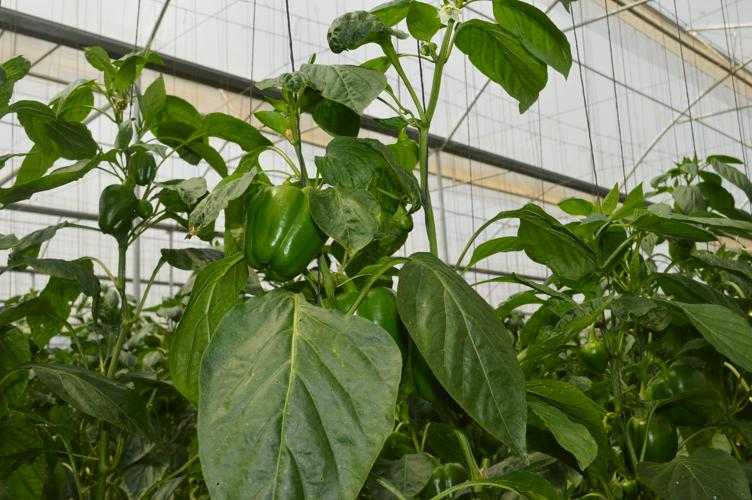BellPepper: (240, 186, 319, 277), (333, 286, 402, 349), (648, 365, 709, 424), (628, 415, 676, 466), (96, 185, 134, 231), (128, 153, 157, 188), (580, 343, 608, 372)
